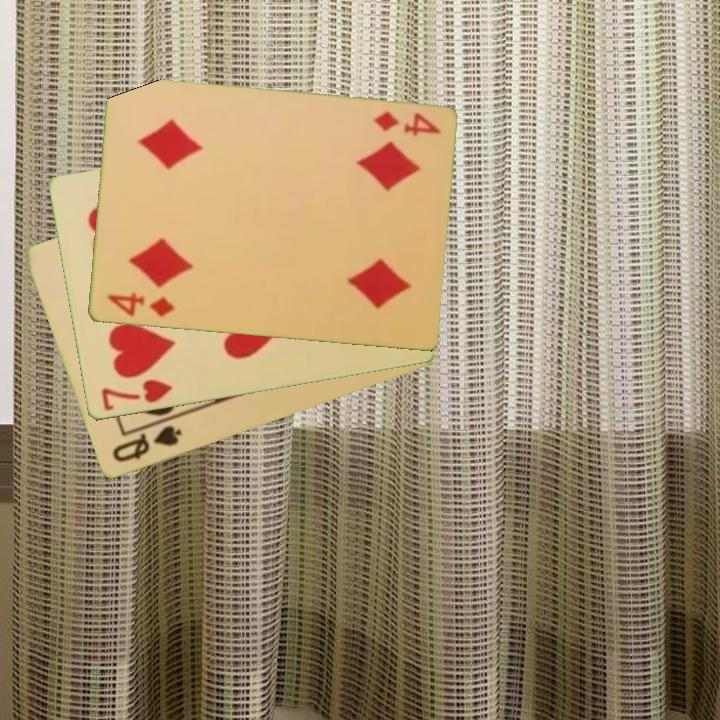4d: (369, 108, 443, 140), (103, 289, 177, 320)
7h: (97, 376, 176, 414)
Qs: (108, 422, 184, 466)
